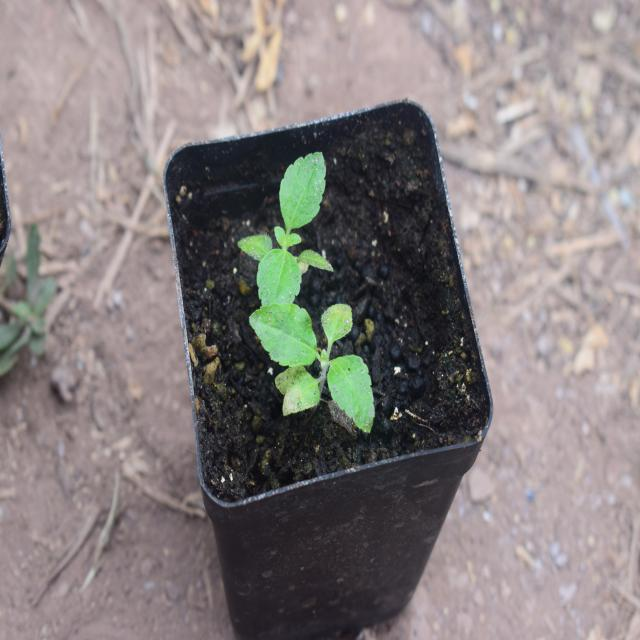billygoat_weed: (231, 297, 399, 419), (235, 137, 339, 313)
